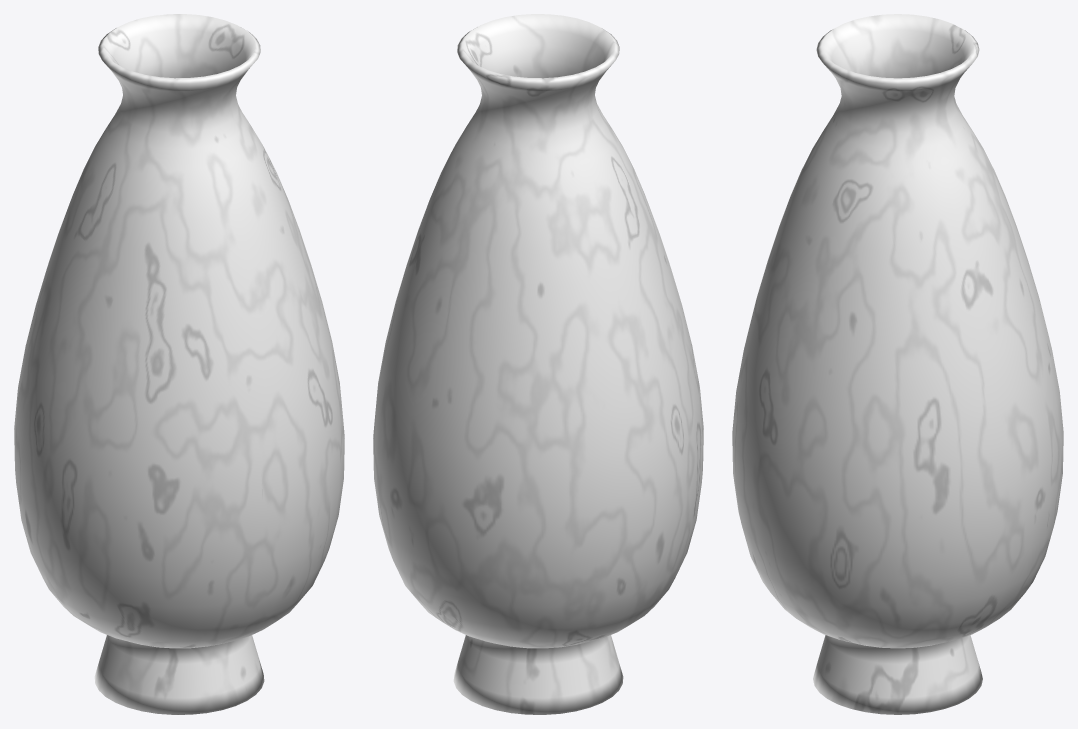
File: Vase.glb
3 views of the same model, side by side, from view 1: azimuth 30°, elevation 25°; view 2: azimuth 150°, elevation 25°; view 3: azimuth 270°, elevation 25° (orthographic).
Visible parts, largest first — view 1: Vase; view 2: Vase; view 3: Vase.
Part boxes in pixels (left/top/right/bottom): Vase: left=14, top=14, right=344, bottom=714; Vase: left=373, top=14, right=703, bottom=714; Vase: left=732, top=14, right=1063, bottom=714.
Bounding box in the file's own units: 0.247 × 0.5202 × 0.247.
Materials: 1 (1 with a texture image).
